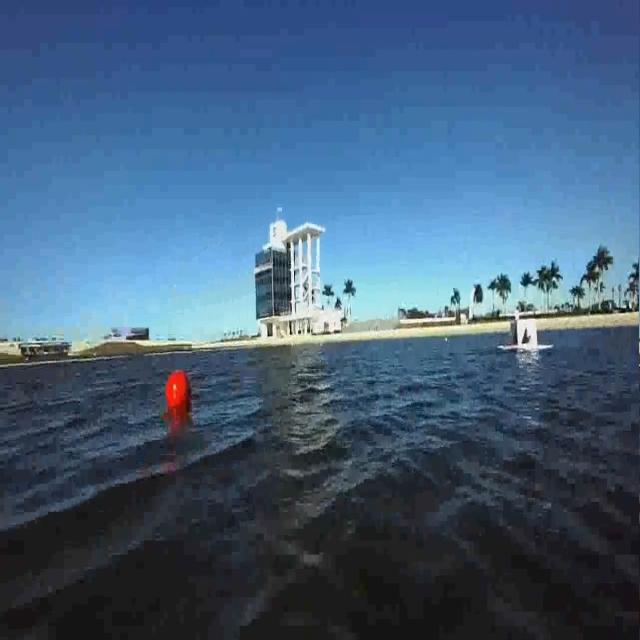red-buoy: (166, 372, 192, 414)
